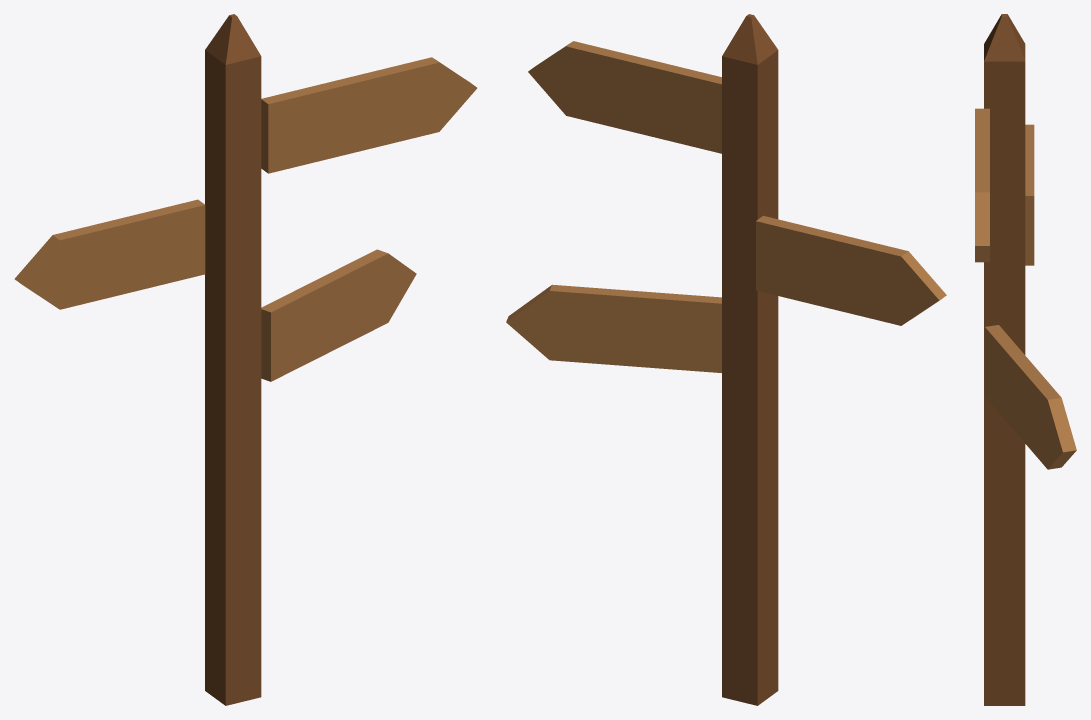
The model's file is SignPost.fbx.
3 renders of one model, left to right at view 1: azimuth 30°, elevation 25°; view 2: azimuth 150°, elevation 25°; view 3: azimuth 270°, elevation 25°, orthographic.
Visible parts, largest first — view 1: SignPost; view 2: SignPost; view 3: SignPost.
Part boxes in pixels (bbox=[...]): SignPost: bbox=[14, 14, 477, 705]; SignPost: bbox=[506, 14, 946, 705]; SignPost: bbox=[975, 14, 1076, 705].
Bounding box in the file's own units: 1.7 × 2.54 × 0.3437.
